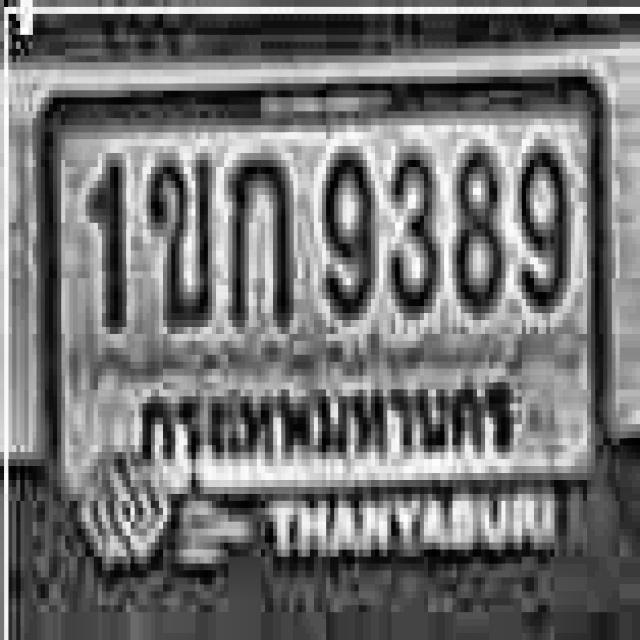license-plate: (31, 68, 614, 584)
